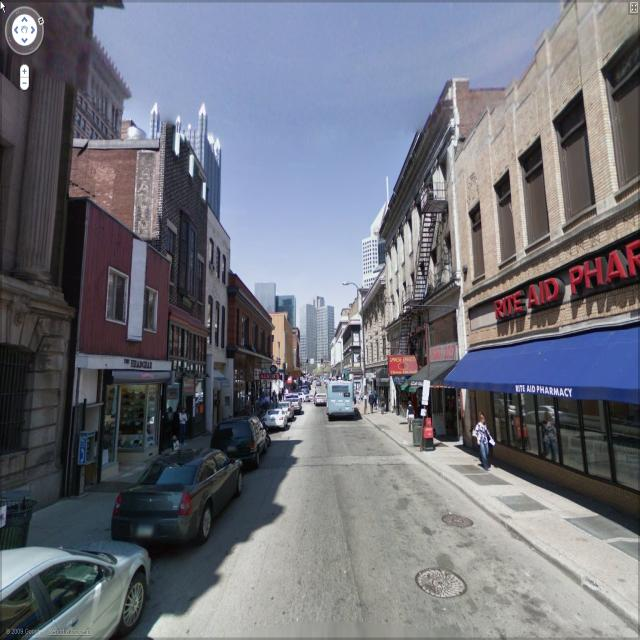b_1: (457, 79, 640, 467), (66, 211, 170, 502), (386, 89, 470, 425), (146, 140, 210, 424), (227, 284, 274, 406), (155, 115, 231, 187), (206, 209, 230, 432), (303, 292, 345, 380), (267, 302, 305, 396), (355, 209, 391, 287), (253, 273, 295, 318)
